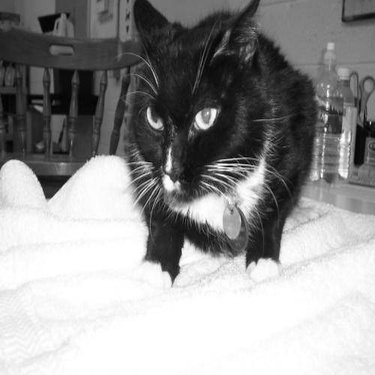cat: (86, 1, 327, 300)
